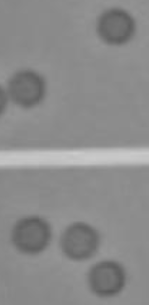cell: (93, 2, 140, 51), (55, 215, 102, 262), (3, 62, 49, 109), (7, 211, 55, 256), (82, 255, 130, 300)
